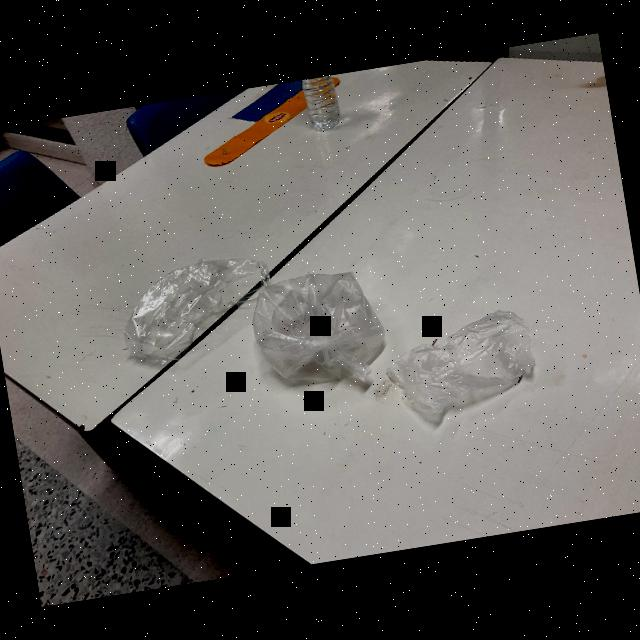plastic_bag: (102, 240, 282, 376), (239, 260, 390, 402)
scrap_plastic: (371, 294, 558, 434)
